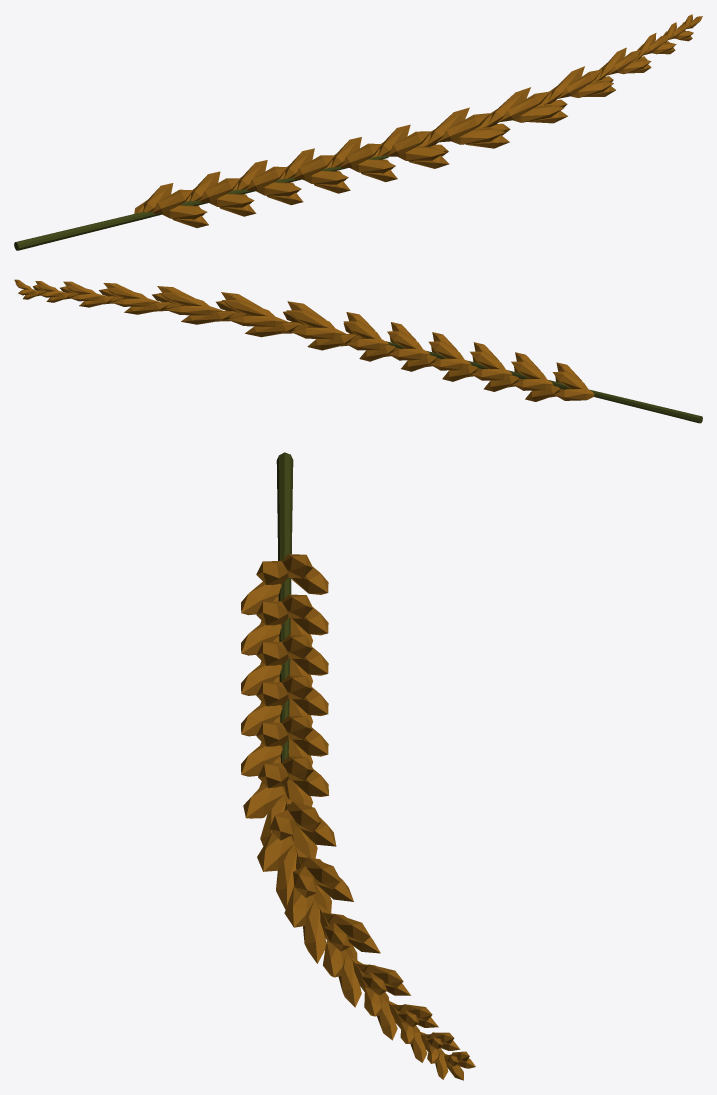
File: MaizeTassel.obj
3 views of the same model, one above another, from view 1: azimuth 30°, elevation 25°; view 2: azimuth 150°, elevation 25°; view 3: azimuth 270°, elevation 25° (orthographic). The views are drawn at different scales.
Visible parts, largest first — view 1: fruit; view 2: fruit; view 3: fruit.
Part boxes in pixels (<box>): fruit: <box>14,14,702,250</box>; fruit: <box>14,279,702,423</box>; fruit: <box>241,452,475,1080</box>.
Size of the model in its own units: 1.03 by 0.0523 by 0.1622.
